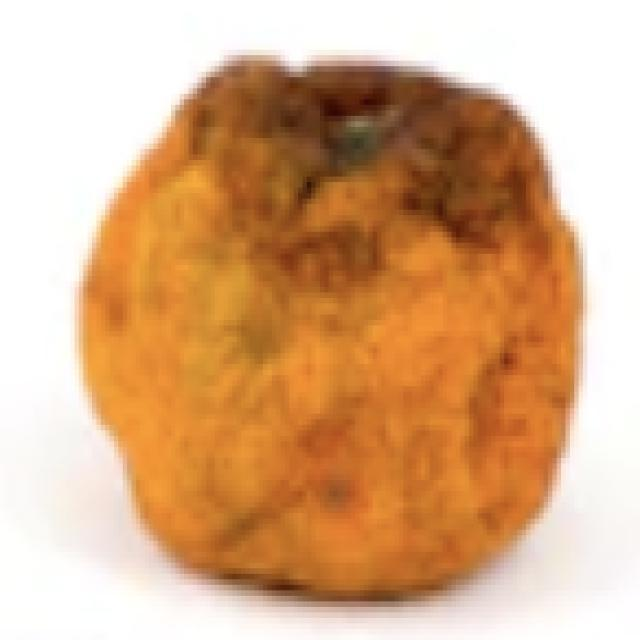sangat-busuk: (82, 58, 581, 598)
